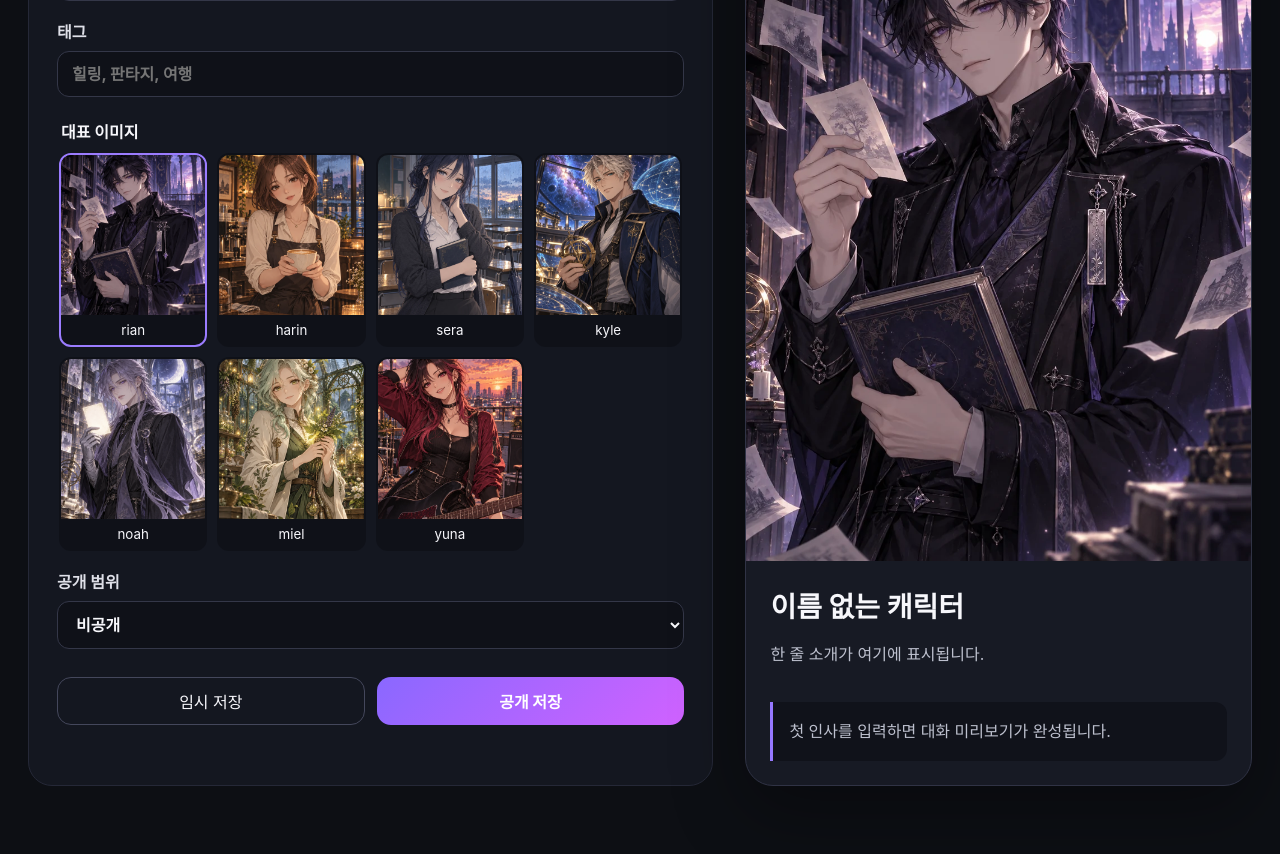
Scenario: 캐릭터 편집기 › 필수값 누락을 한 번에 안내하고 저장하지 않는다
(page scrolled)
Click the button "공개 저장".
click(531, 701)  # box [377,677,684,725]
(page scrolled)
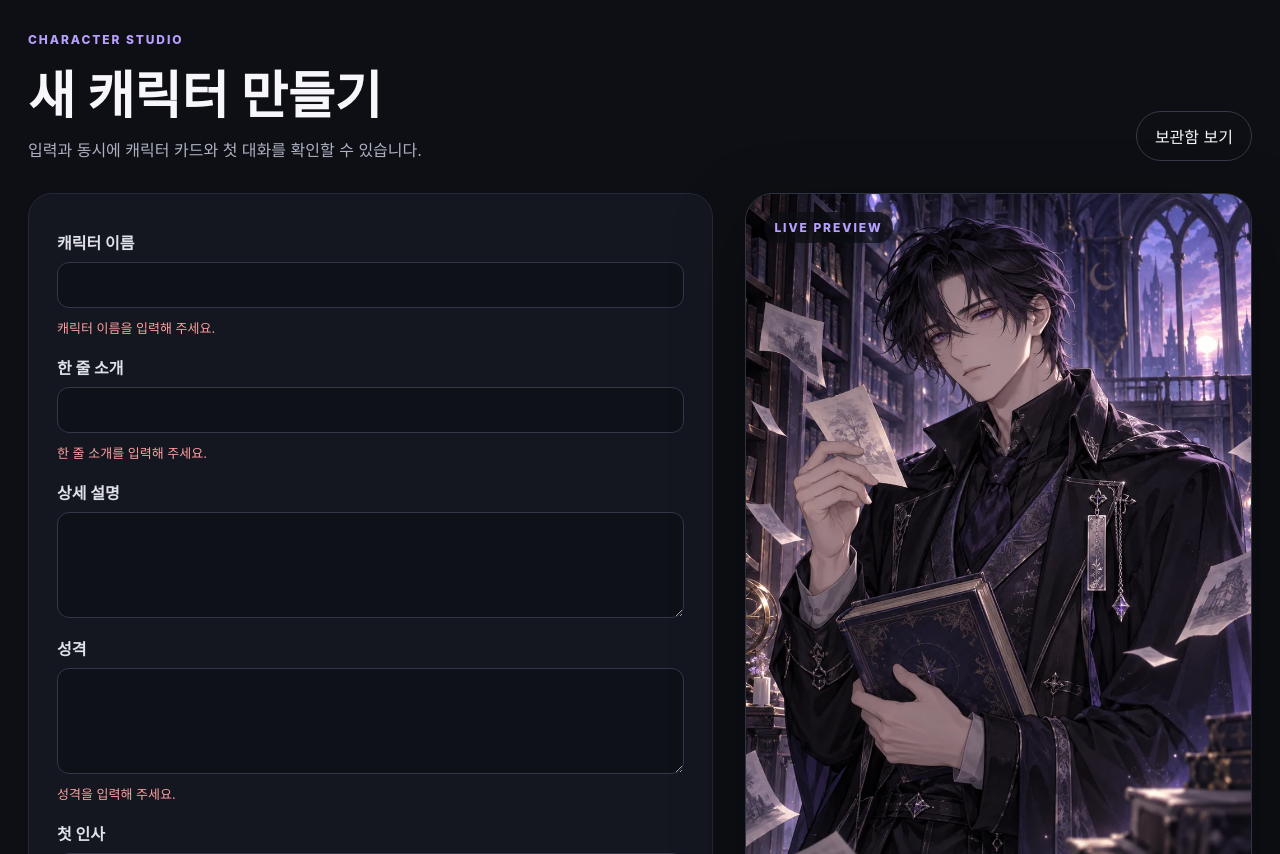
expect the text "캐릭터 이름을 입력해 주세요." is shown: met, box [57,320,215,336]
